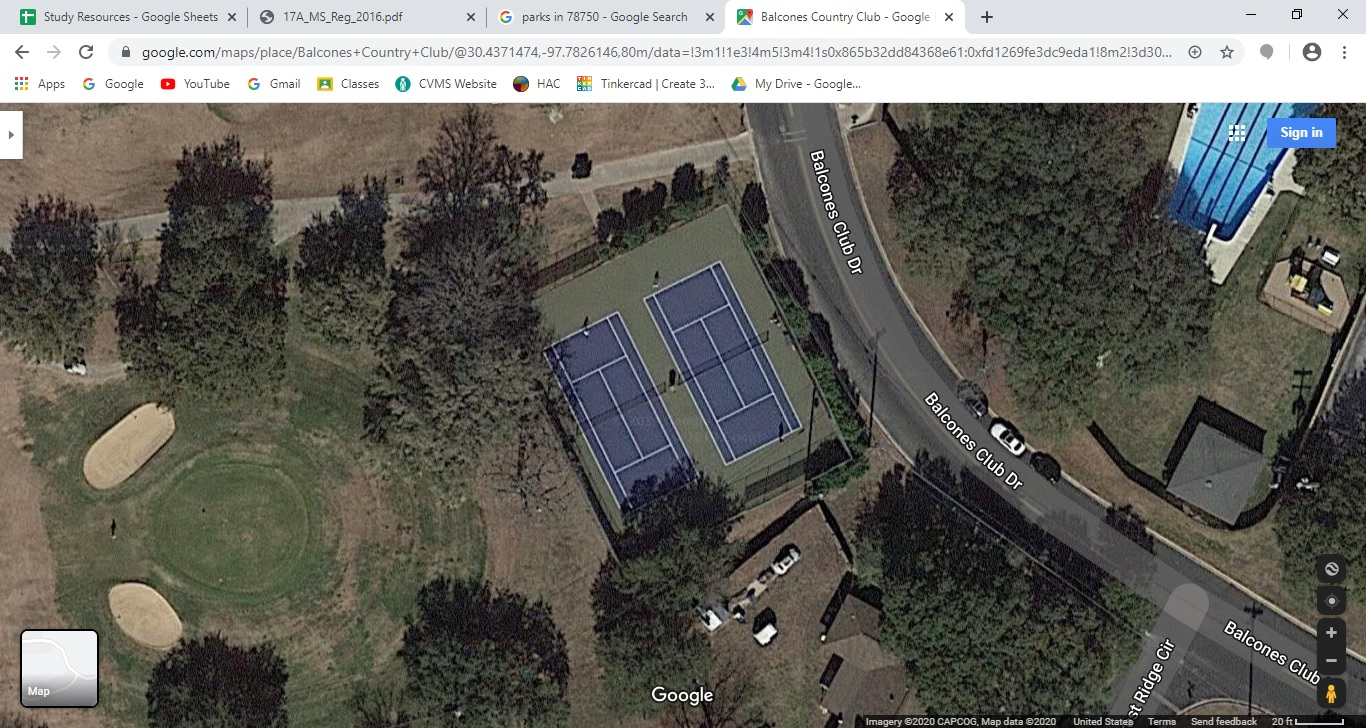tennis: (535, 317, 694, 515)
